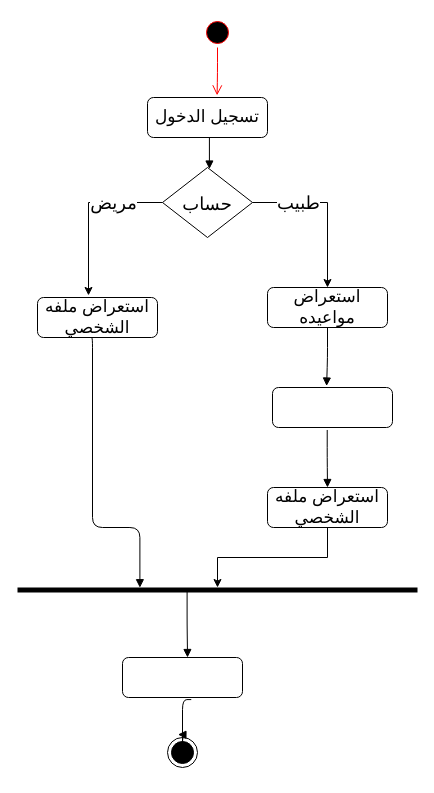
Some shapes in this 434 by 793 pixel diagram are drawn without their labels. Each missing label, with the centre of its shape:
"اختيار مريض" belongs at point (332, 407).
"يظهر السجل الطبي" belongs at point (182, 677).
